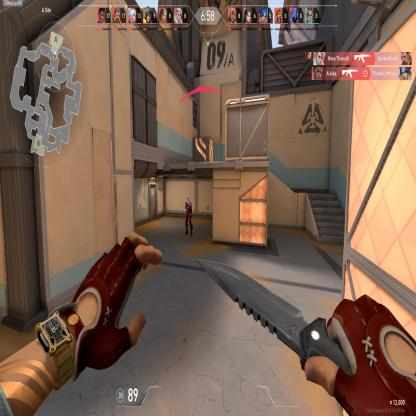enemy: (184, 193, 193, 237)
